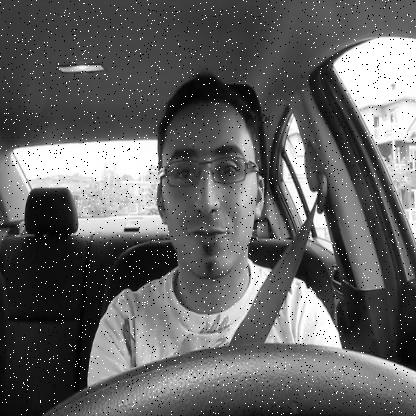seatbelt: (146, 66, 338, 344)
